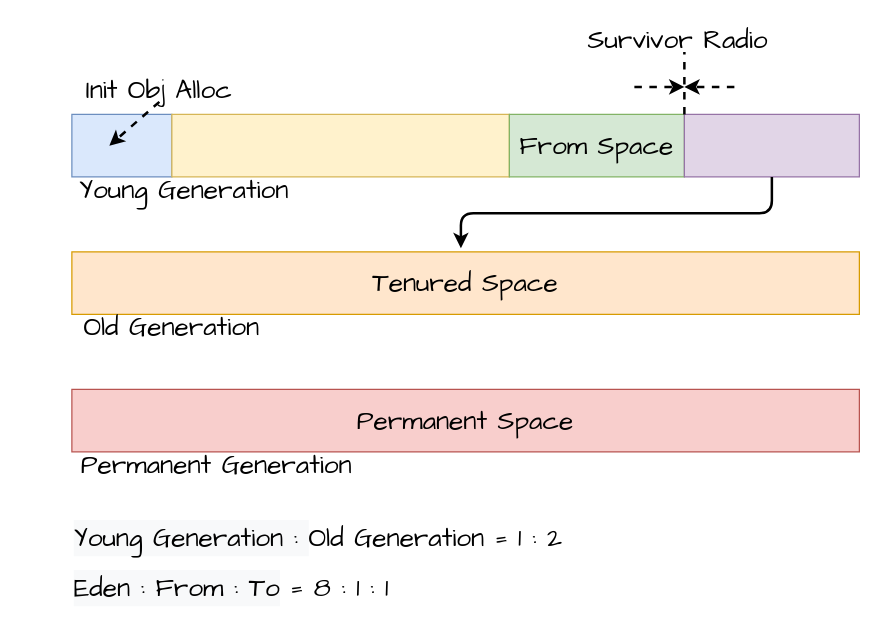
This 881x626 diagram has some shape labels left out. Each missing label, with the box of its shape:
Eden Space: (171, 113, 509, 177)
To Space: (683, 113, 859, 177)
